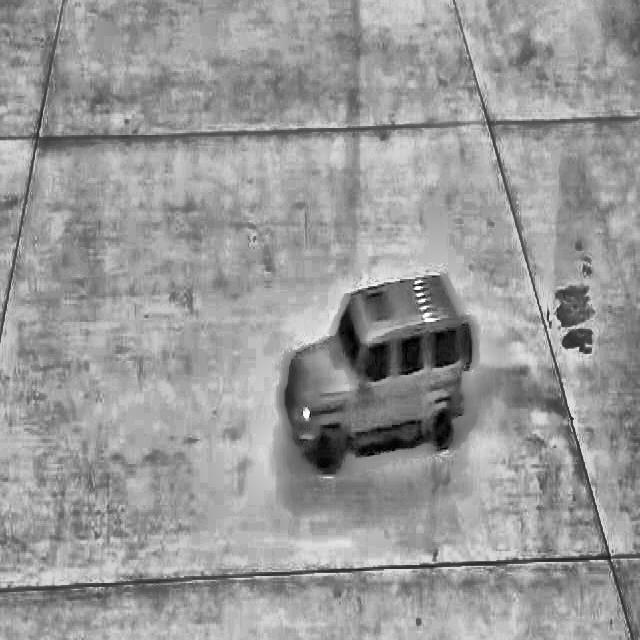light_vehicle: (267, 262, 468, 454)
